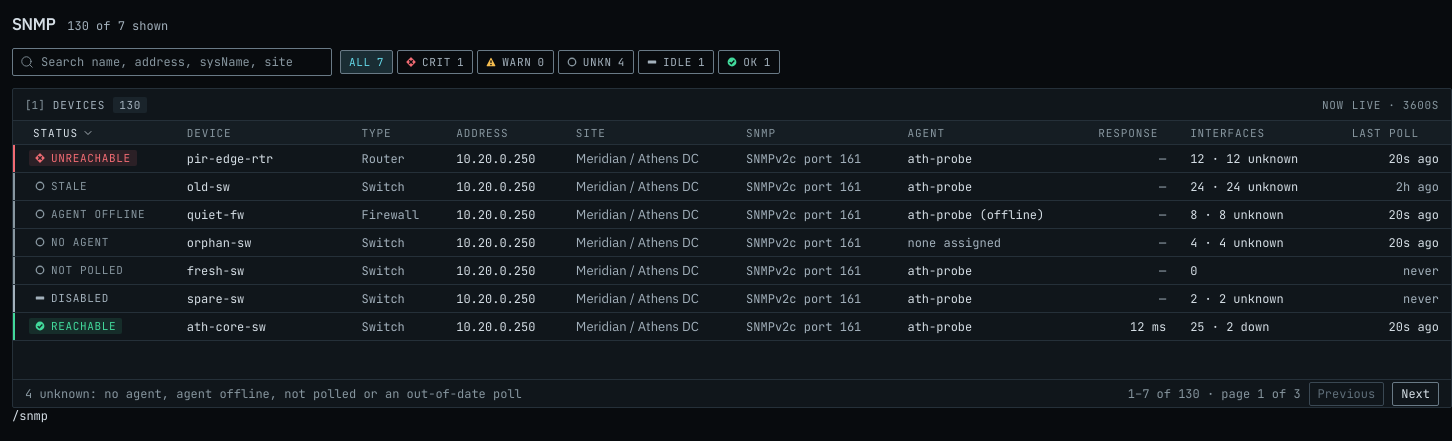
Test: the query › filters from the chips, sorts from the headers and pages, all in the URL
The width and height of the screenshot is (1452, 441).
What coordinates should you click on to do the following:
click the button "CRIT 1"
I would click on:
 (435, 62)
Its box is [397, 50, 473, 74].
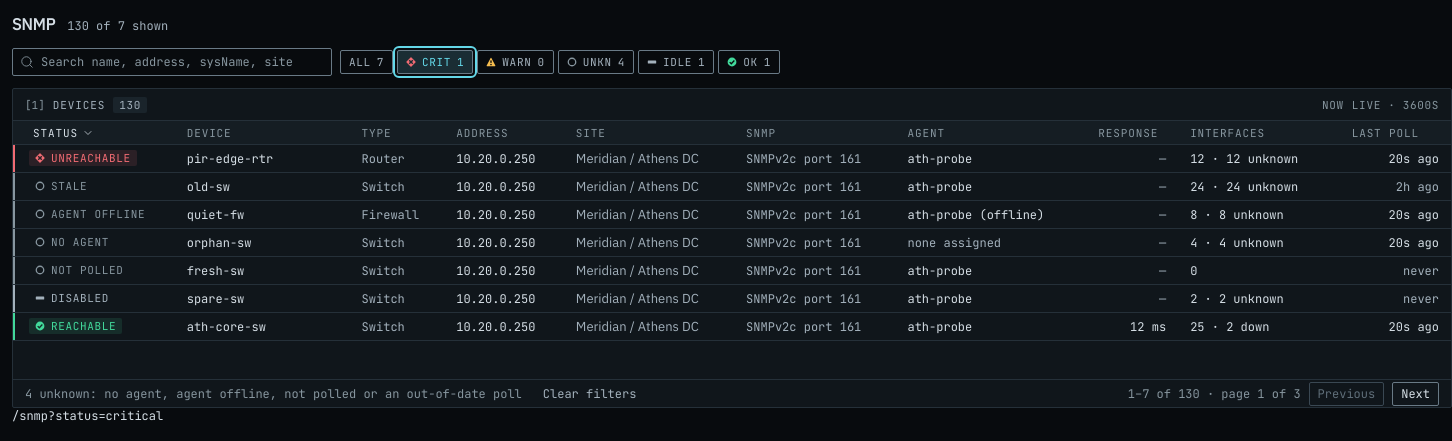
Expected: the text named "location" reads "/snmp?status=critical", [12, 408, 163, 424]
What coordinates should you click on to do the following:
click the button "RESPONSE"
I would click on:
 (1136, 132)
Its box is [1094, 121, 1178, 144].
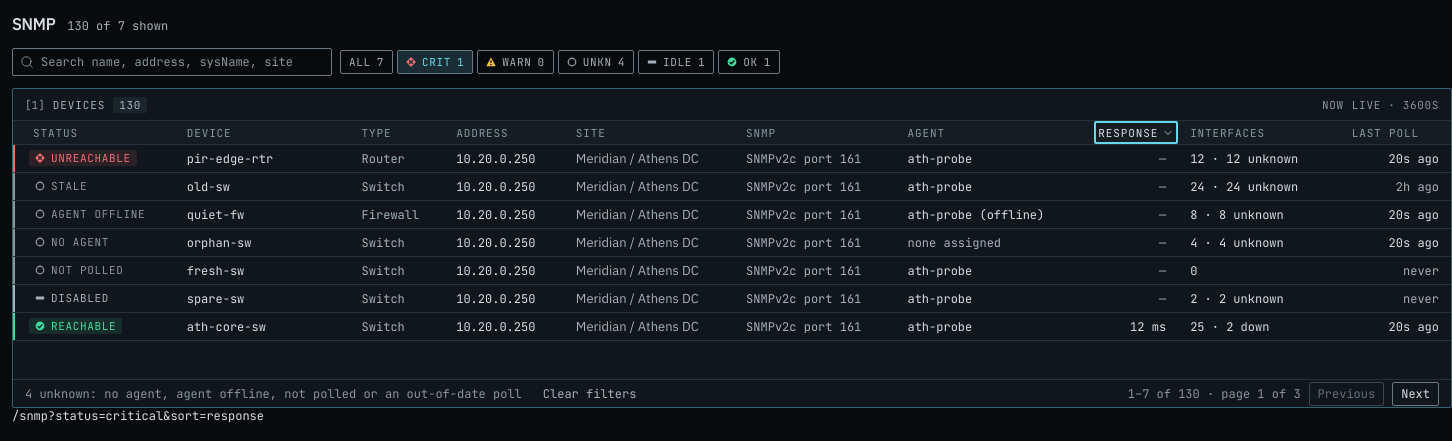
Expected: the text named "location" shows "sort=response", [12, 408, 264, 424]
What coordinates should you click on to do the following:
click the button "Next"
I would click on:
 (1416, 394)
Its box is [1392, 382, 1439, 406].
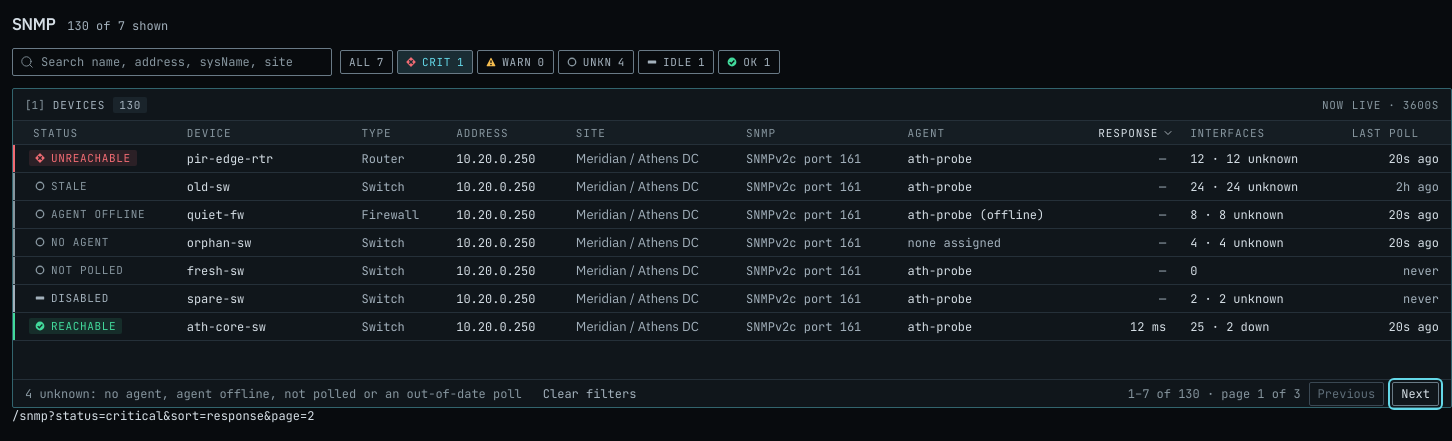
Expected: the text named "location" shows "page=2", [12, 408, 314, 424]
